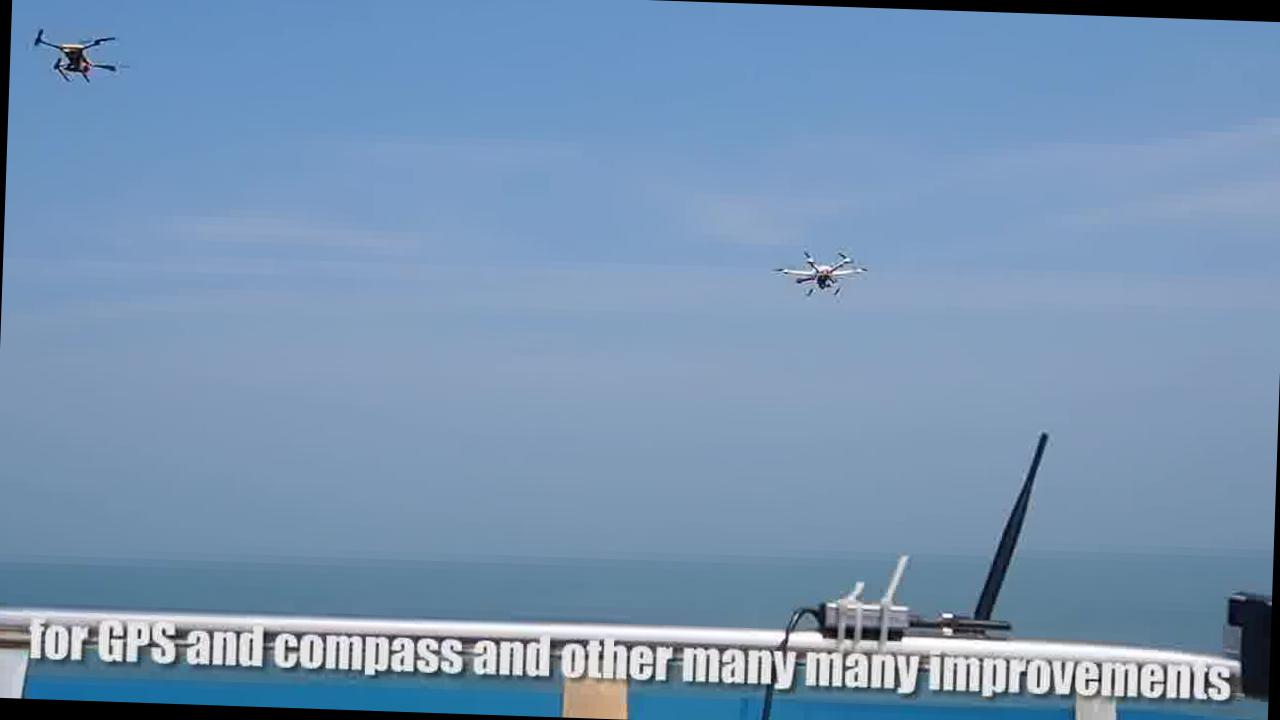drone: (26, 22, 126, 84), (769, 242, 869, 302)
